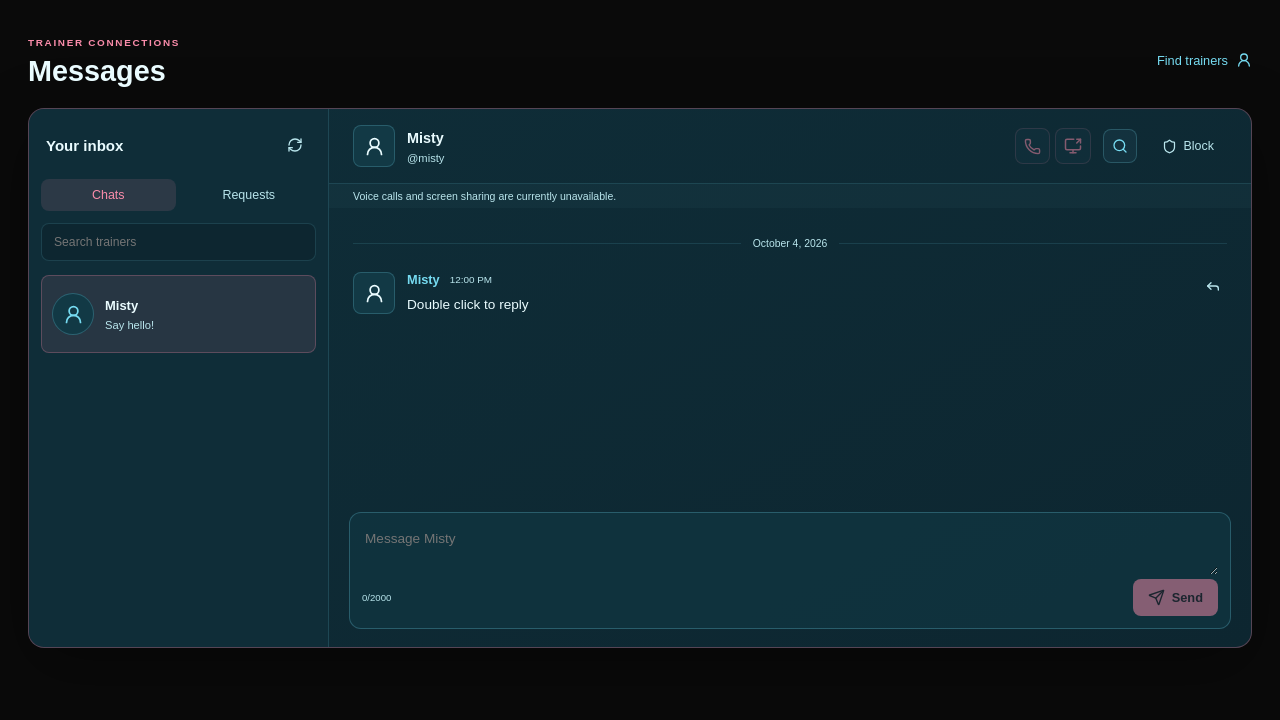
Test: messages inbox › replies to an incoming message on double click and highlights the original
This screenshot has width=1280, height=720.
Double-click the text "Double click to reply" at [468, 304], box [407,297,529,312]
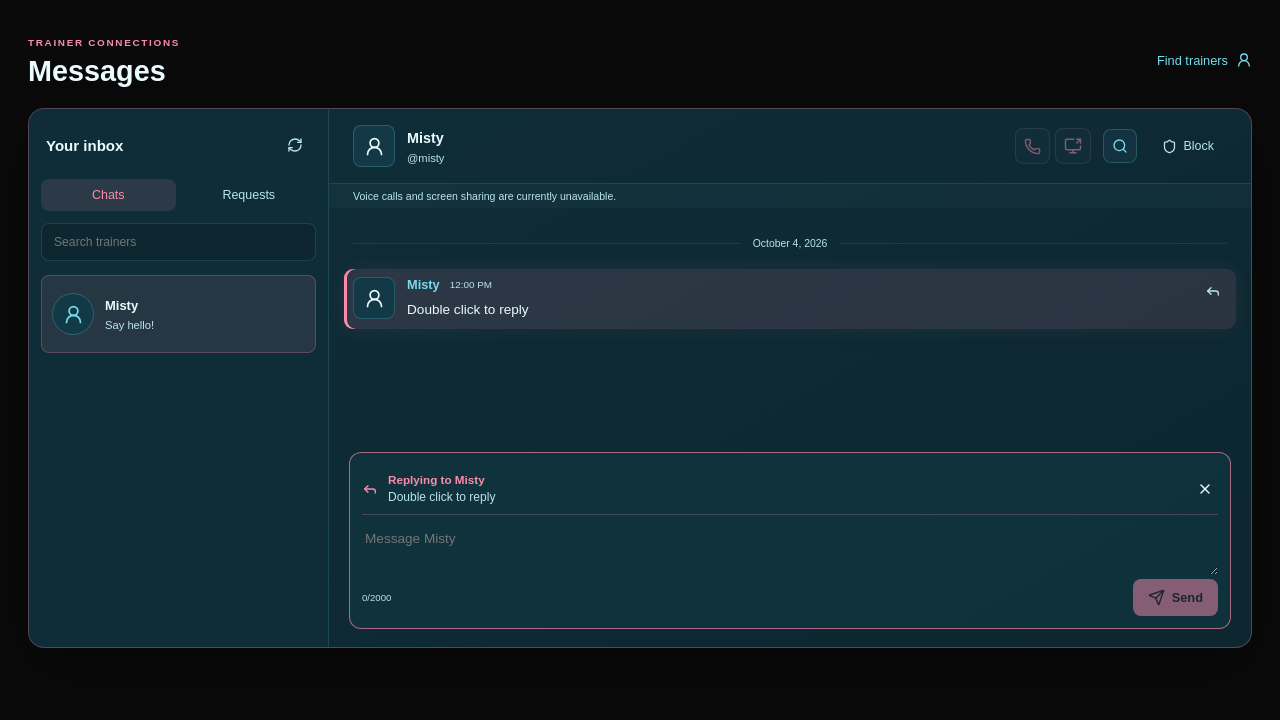
Expected: the text "Replying to Misty" is shown, [388,473,485,486]
